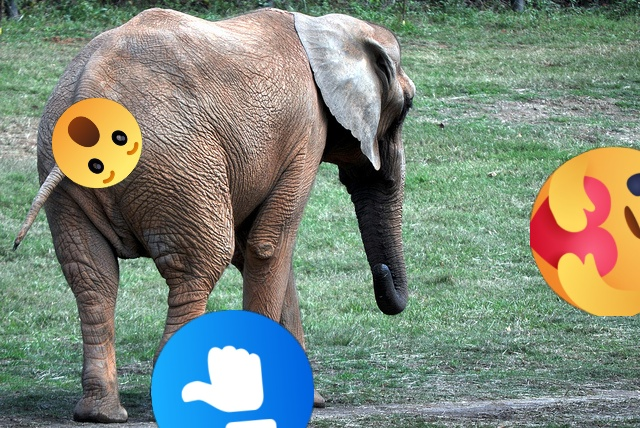care: (530, 147, 640, 316)
like: (151, 310, 314, 428)
wow: (52, 98, 142, 188)
